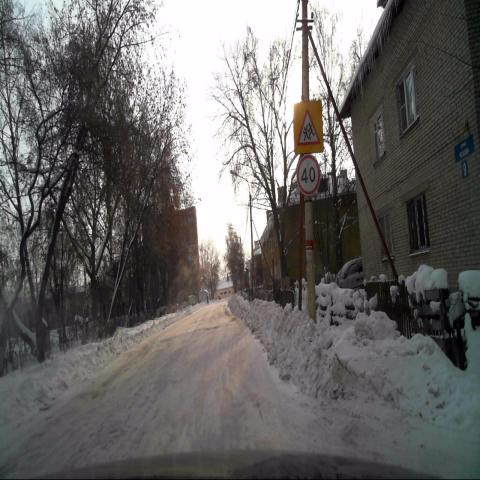1_23: (294, 100, 322, 154)
3_24: (297, 155, 320, 195)
